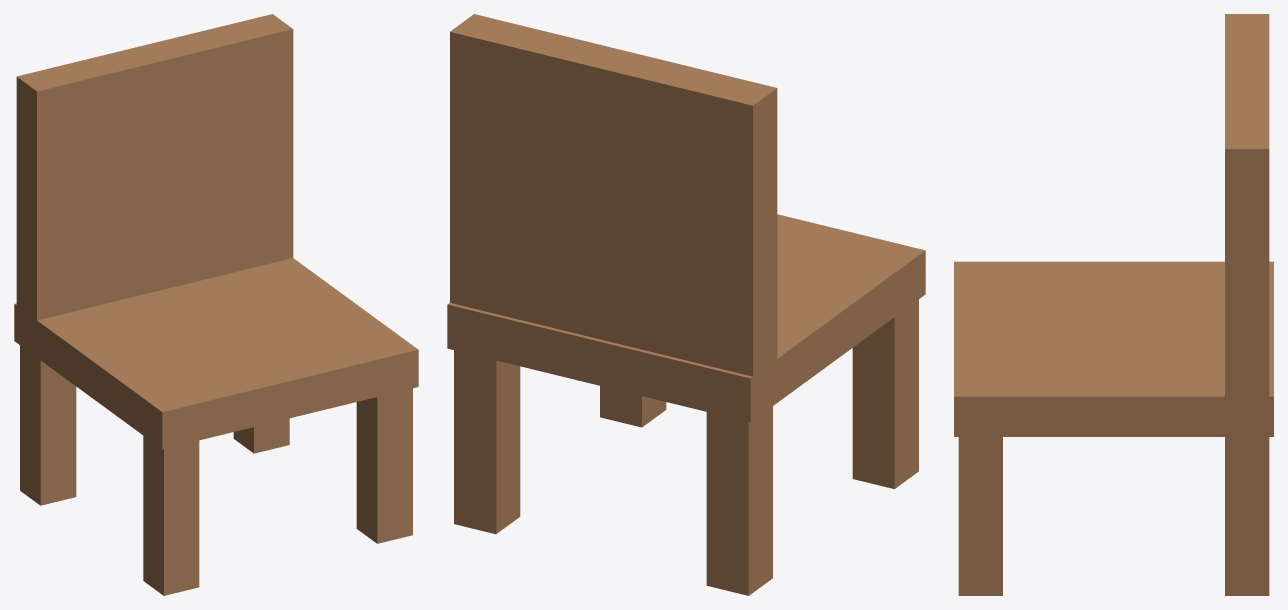
The picture shows the model from 3 angles, left to right: view 1: azimuth 30°, elevation 25°; view 2: azimuth 150°, elevation 25°; view 3: azimuth 270°, elevation 25°; orthographic projection. The views are drawn at different scales.
Parts seen in each view (by area): view 1: chair_backrest; view 2: chair_backrest; view 3: chair_backrest.
Boxes of the visible parts, bbox=[...] form: chair_backrest: bbox=[14, 14, 418, 595]; chair_backrest: bbox=[447, 14, 925, 595]; chair_backrest: bbox=[954, 14, 1273, 595].
Size of the model in its own units: 0.72 by 1.11 by 0.72.
